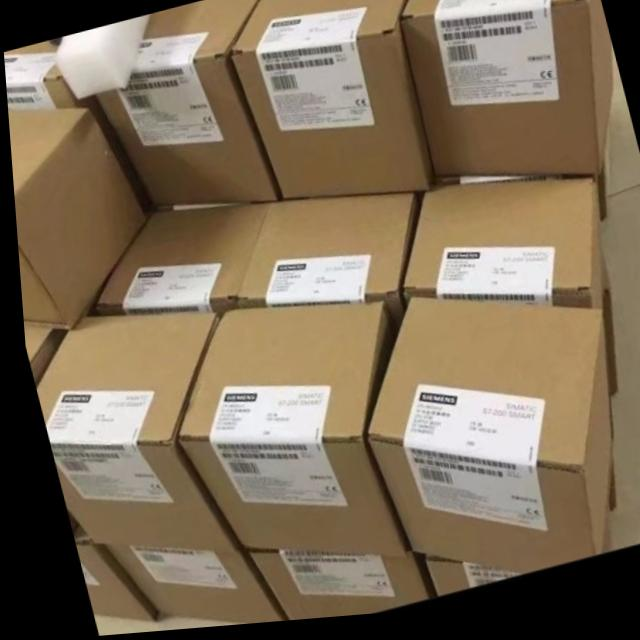box: (361, 303, 606, 582), (170, 306, 399, 562), (30, 315, 231, 556), (229, 0, 431, 202), (398, 0, 611, 182), (94, 0, 278, 208), (6, 108, 141, 329), (397, 182, 599, 318), (3, 41, 152, 223), (232, 199, 416, 346), (90, 206, 265, 322), (95, 544, 277, 627), (239, 552, 421, 624), (58, 509, 149, 623), (416, 561, 515, 603), (19, 326, 62, 387)
